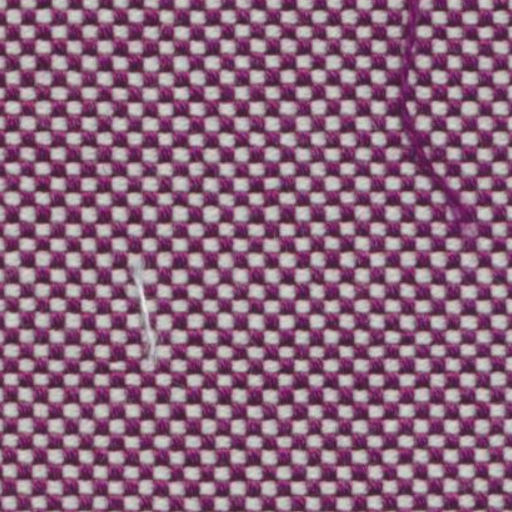DuanSha: (382, 6, 488, 234), (108, 251, 178, 379)
